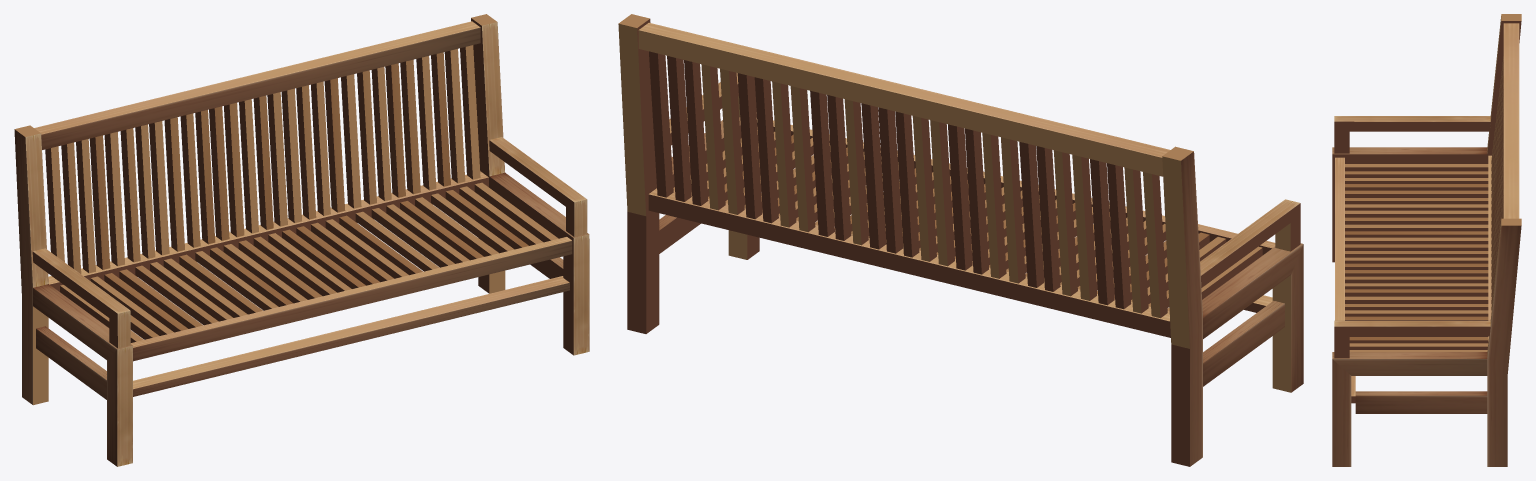
File: CBS_obj_Bench.FBX
3 renders of one model, left to right at view 1: azimuth 30°, elevation 25°; view 2: azimuth 150°, elevation 25°; view 3: azimuth 270°, elevation 25°, orthographic. The views are drawn at different scales.
Parts seen in each view (by area): view 1: CBS_obj_Bench; view 2: CBS_obj_Bench; view 3: CBS_obj_Bench.
Boxes of the visible parts, x1=… form: CBS_obj_Bench: x1=14, y1=14, x2=589, y2=466; CBS_obj_Bench: x1=618, y1=14, x2=1303, y2=466; CBS_obj_Bench: x1=1332, y1=14, x2=1521, y2=466.
Bounding box in the file's own units: 137 × 72.68 × 51.64.
